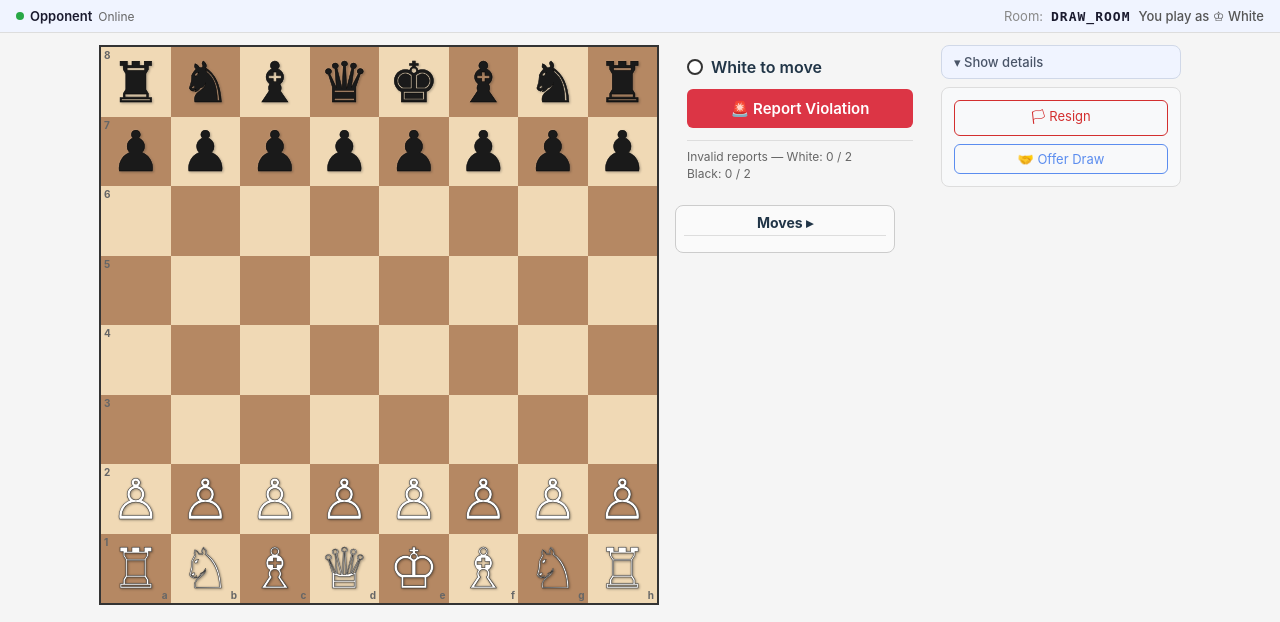
OnlineGameScreen – draw decline notification › allows offering a draw again after decline
The width and height of the screenshot is (1280, 622).
Note: Offer → decline
What coordinates should you click on to do the following:
click the button "🤝 Offer Draw"
I would click on:
 (1061, 159)
Its box is x1=954 y1=144 x2=1168 y2=174.
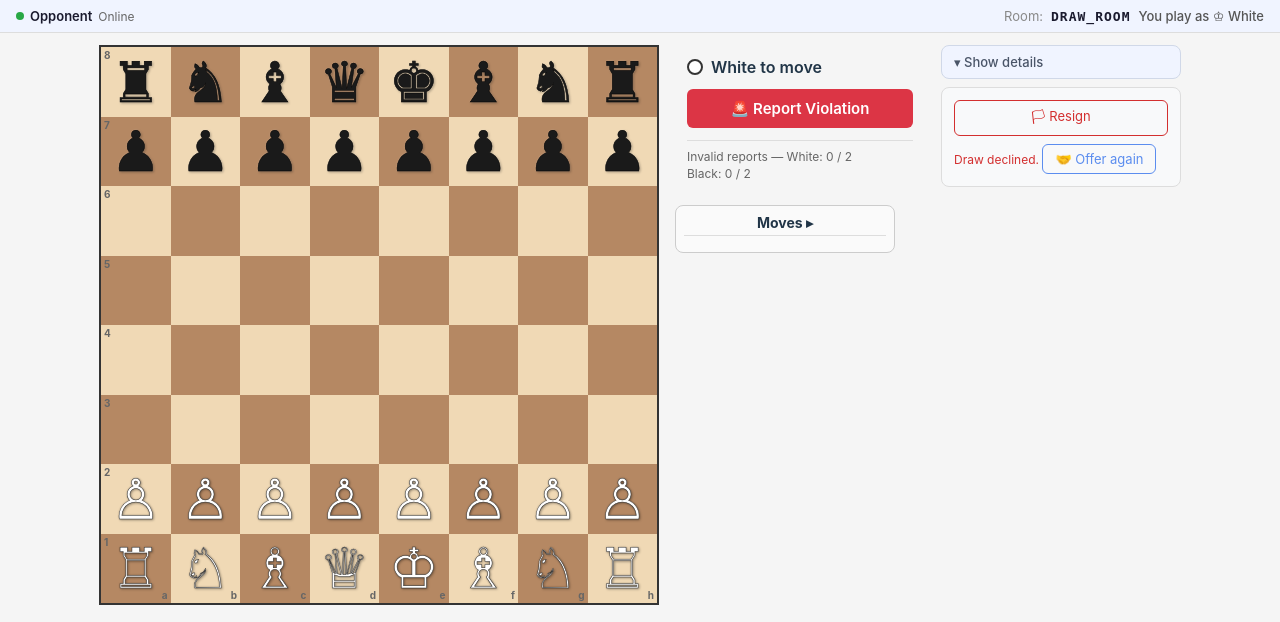
Note: Offer again button should be visible
What coordinates should you click on to do the following:
click the button "🤝 Offer again"
I would click on:
 (1099, 159)
Its box is x1=1042 y1=144 x2=1156 y2=174.
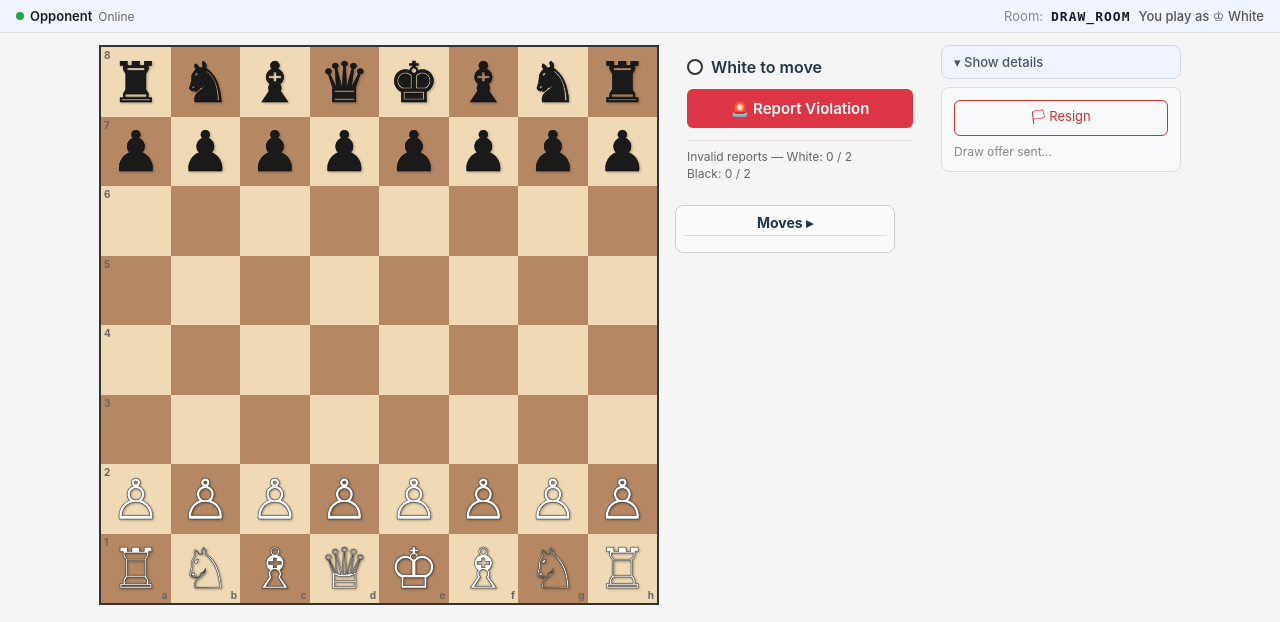
Now the text "Draw offer sent…" is shown, box x1=954 y1=144 x2=1052 y2=159
